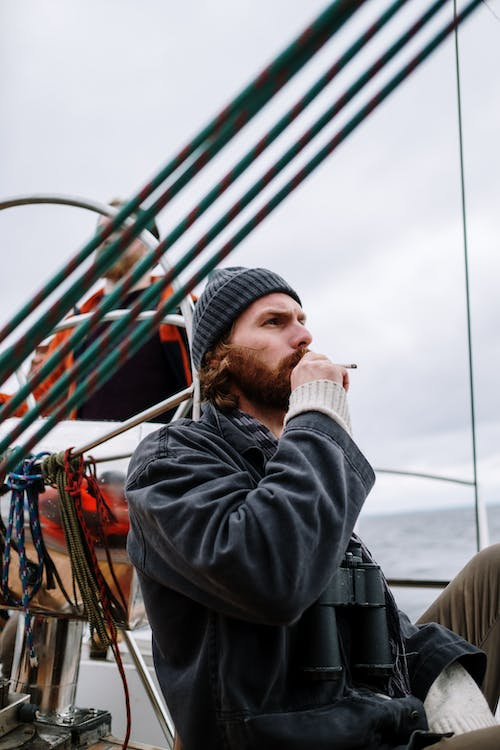cigarette: (333, 362, 360, 372)
